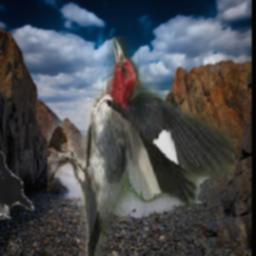Crow: (0, 150, 35, 221)
Woodpecker: (47, 37, 235, 256)
